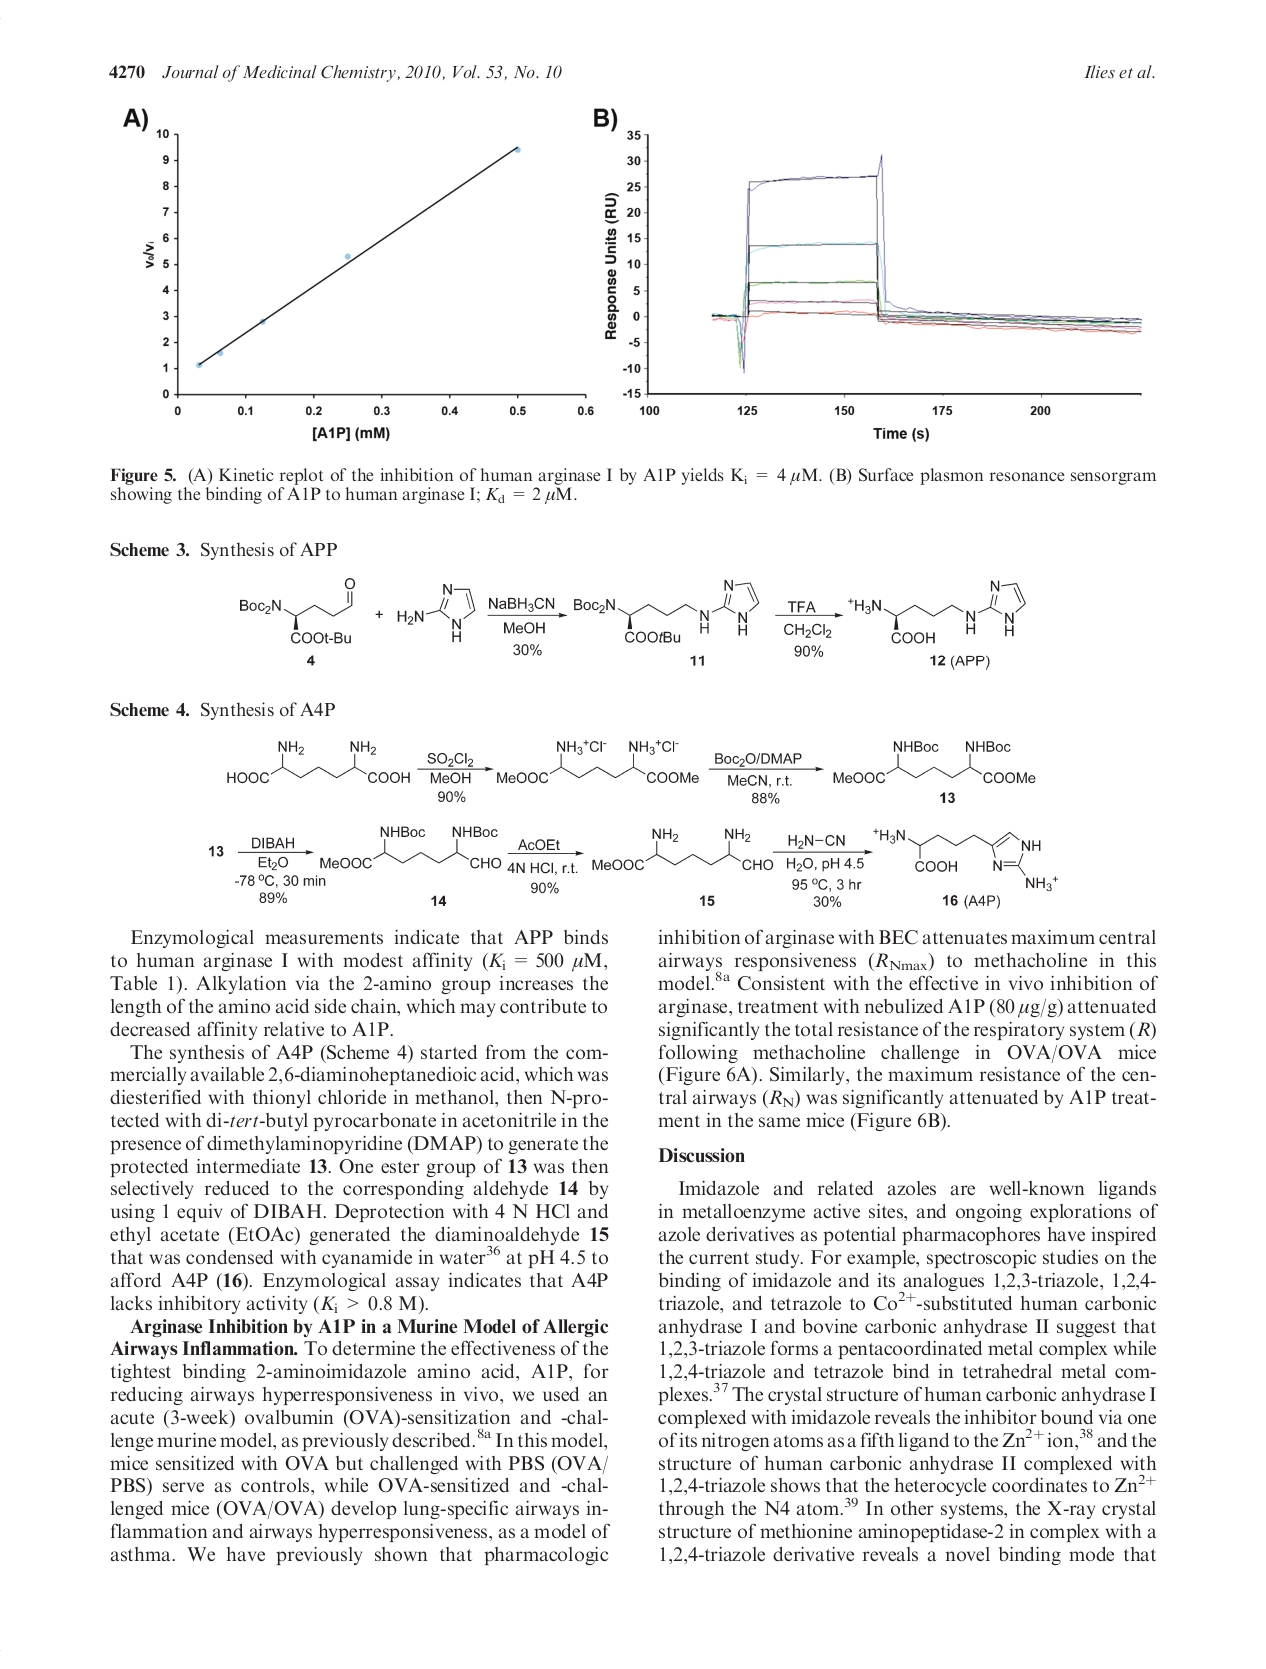exist_molecular: (872, 823, 1065, 894), (848, 580, 1027, 649), (573, 578, 761, 644), (832, 735, 1039, 790), (493, 738, 703, 785), (318, 823, 504, 871), (225, 738, 414, 785), (590, 825, 774, 871), (239, 577, 356, 645), (396, 581, 477, 644)
